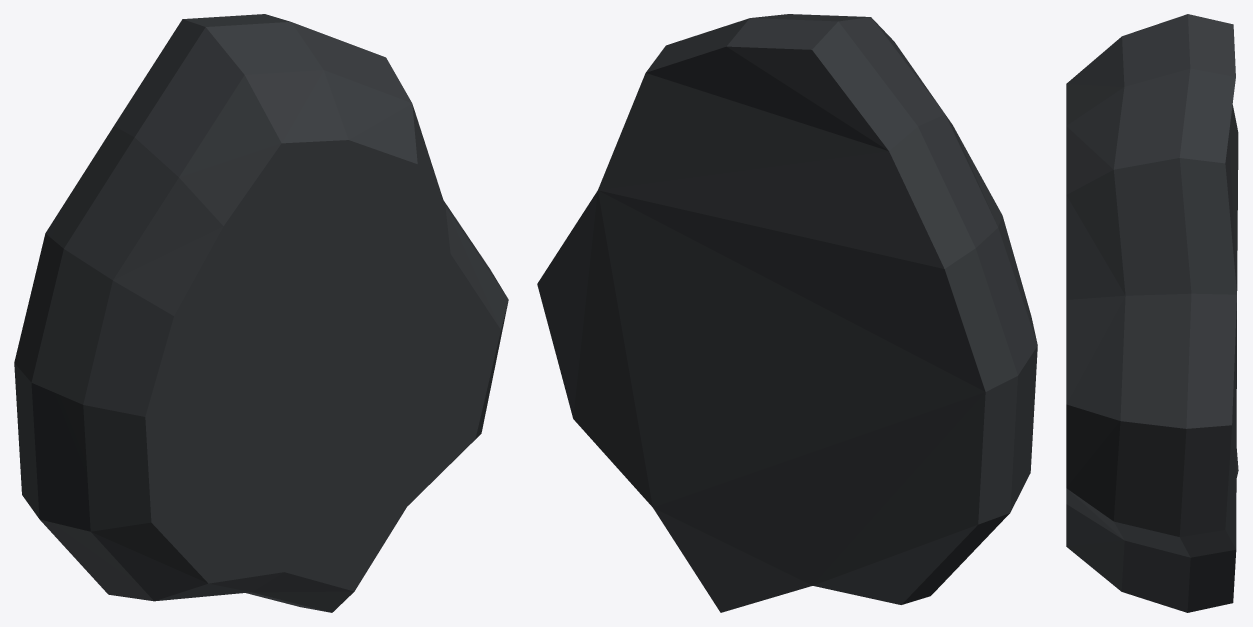
Rendered from FERNSTONE_EMBER.shadow.glb.
The picture shows the model from 3 angles, left to right: view 1: azimuth 30°, elevation 25°; view 2: azimuth 150°, elevation 25°; view 3: azimuth 270°, elevation 25°; orthographic projection. The views are drawn at different scales.
Visible parts, largest first — view 1: Body_Mesh; view 2: Body_Mesh; view 3: Body_Mesh.
Part boxes in pixels (x1,y1,x2,y2): Body_Mesh: (14,14,508,612); Body_Mesh: (537,14,1037,612); Body_Mesh: (1066,14,1238,612).
Size of the model in its own units: 0.2902 by 0.3632 by 0.1018.
Materials: 1 (1 with a texture image).
